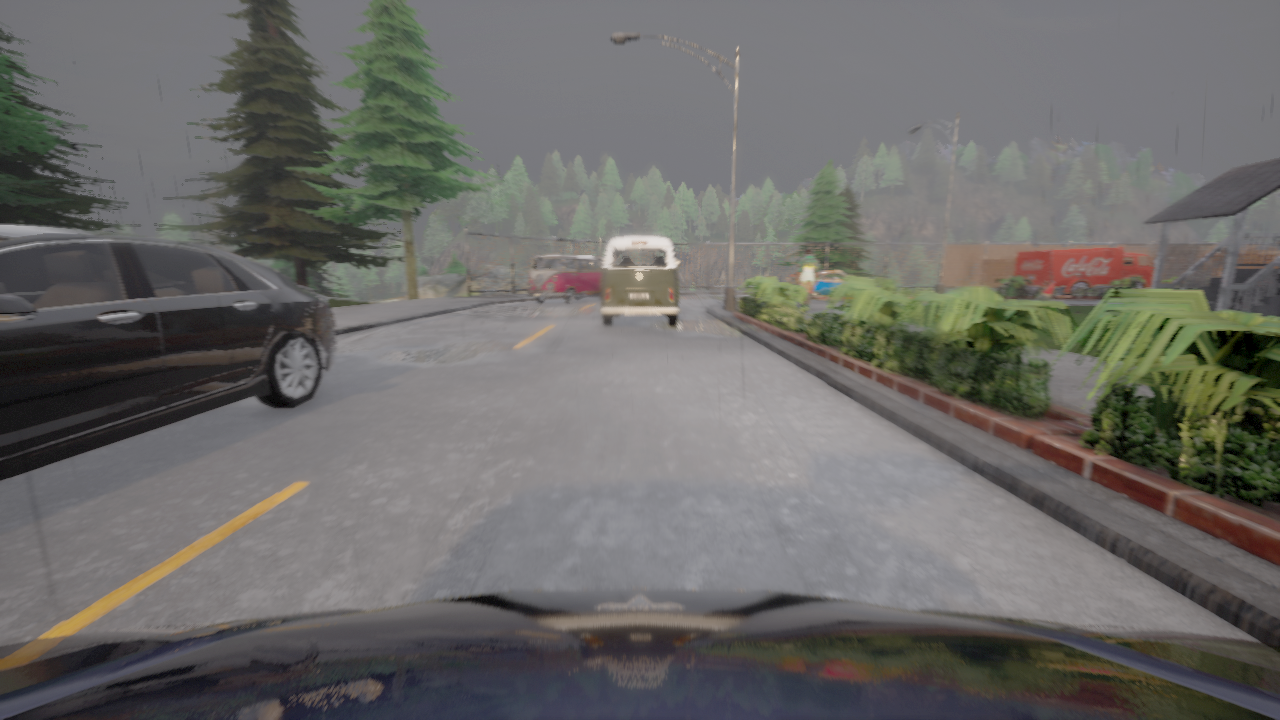cyclist: (0, 588, 1279, 719), (600, 236, 679, 326), (1014, 246, 1155, 295), (527, 254, 604, 304), (811, 270, 847, 298), (788, 275, 792, 281), (1060, 293, 1065, 295)
pedestrian: (796, 250, 819, 308)
